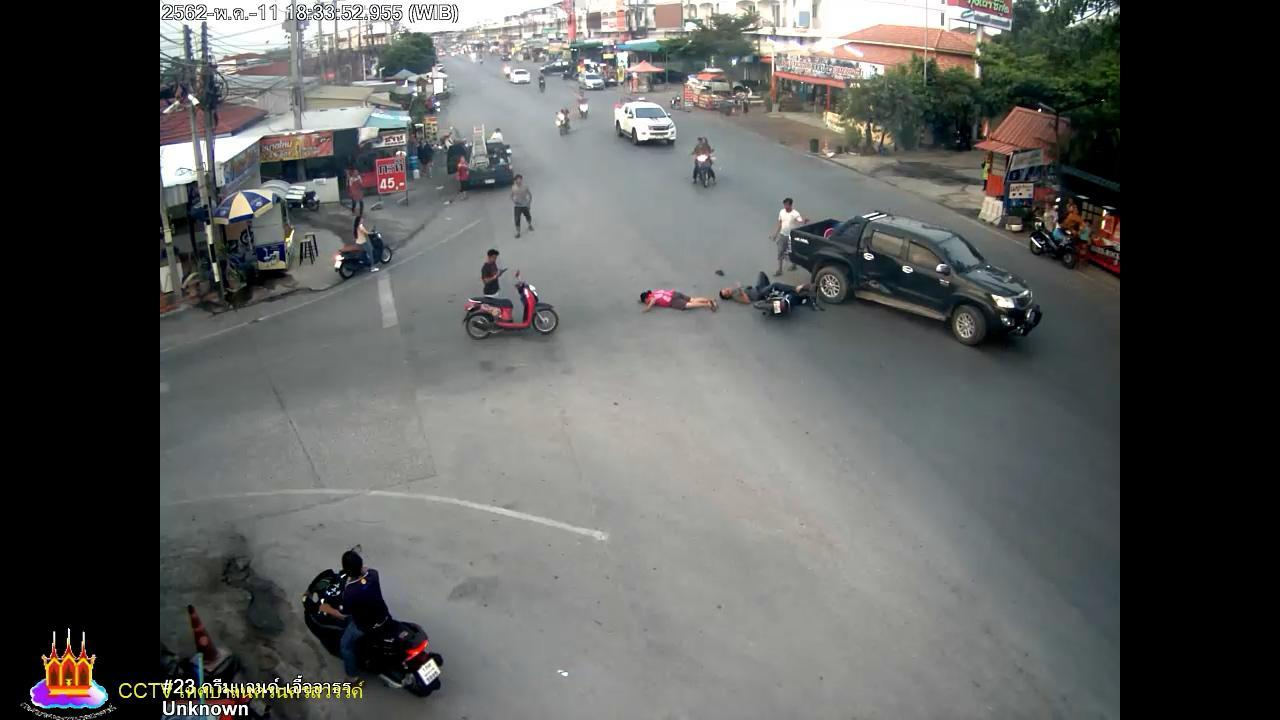accident: (635, 285, 717, 316), (719, 266, 774, 307)
